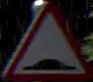Speed Breaker ahead: (5, 1, 89, 81)
